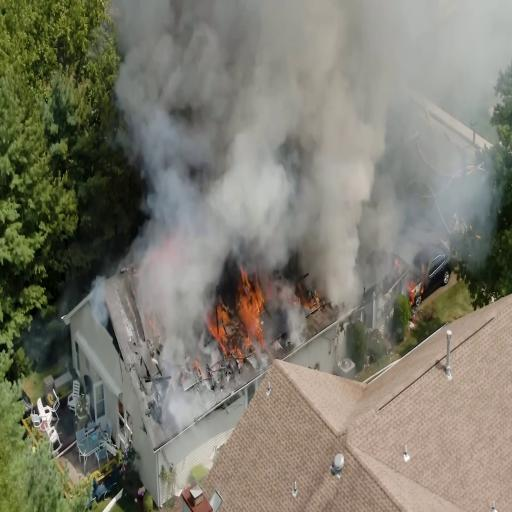fire: (206, 276, 264, 362)
smoke: (136, 0, 346, 253), (154, 240, 206, 346)
